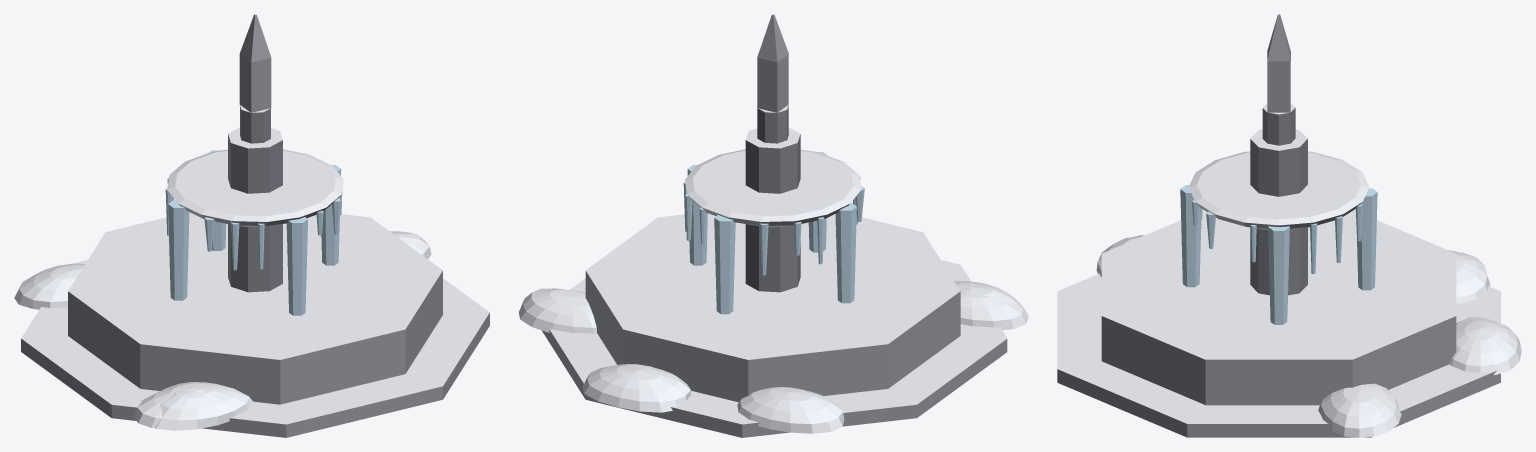
The model's file is PR_Fonte_Congelada.fbx.
3 renders of one model, left to right at view 1: azimuth 30°, elevation 25°; view 2: azimuth 150°, elevation 25°; view 3: azimuth 270°, elevation 25°, orthographic.
Visible parts, largest first — view 1: PR_Fonte_Congelada; view 2: PR_Fonte_Congelada; view 3: PR_Fonte_Congelada.
Boxes of the visible parts, x1,y1,x2,y2 form: PR_Fonte_Congelada: (14,14,489,437); PR_Fonte_Congelada: (518,14,1028,437); PR_Fonte_Congelada: (1057,14,1521,437).
Size of the model in its own units: 6.84 by 5.3 by 6.77.
